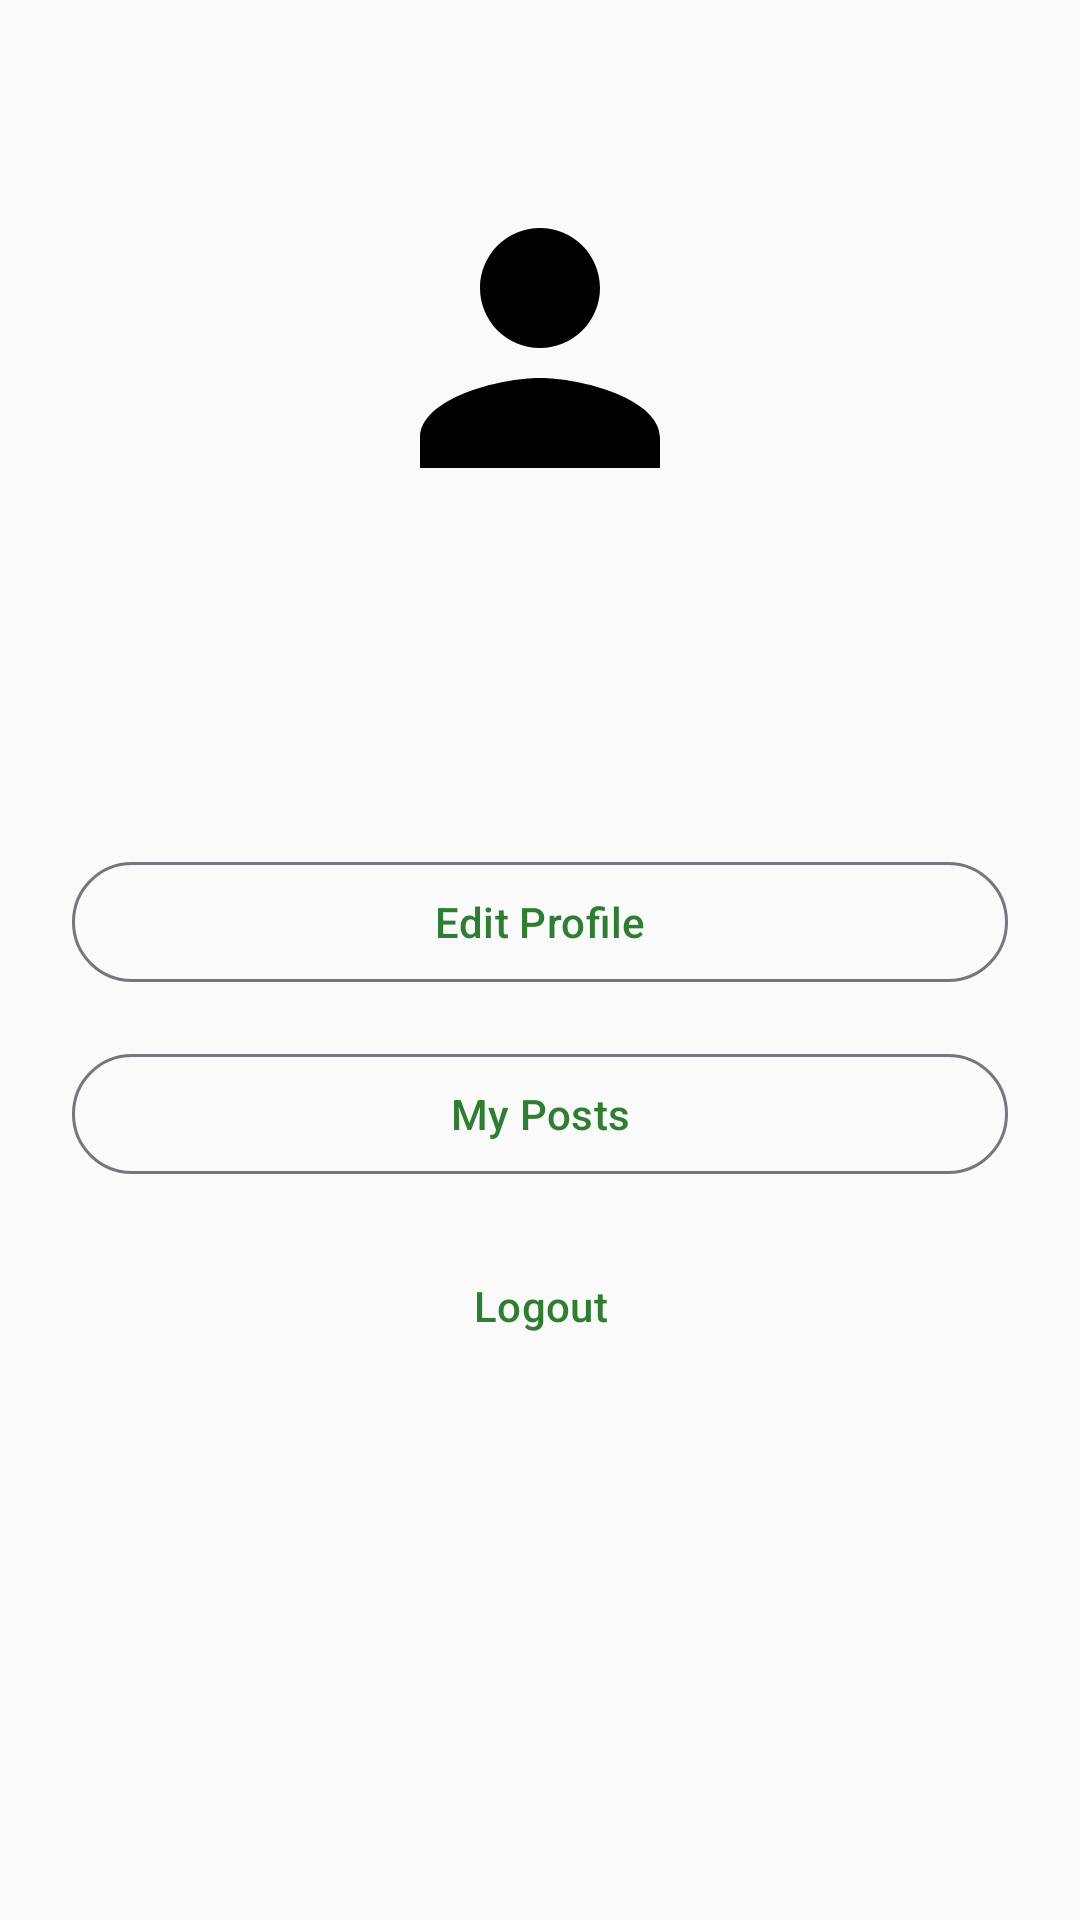

Named icons in this screenshot (1080px×1920px) and their centers, [x,y]:
Profile: [540,348]
